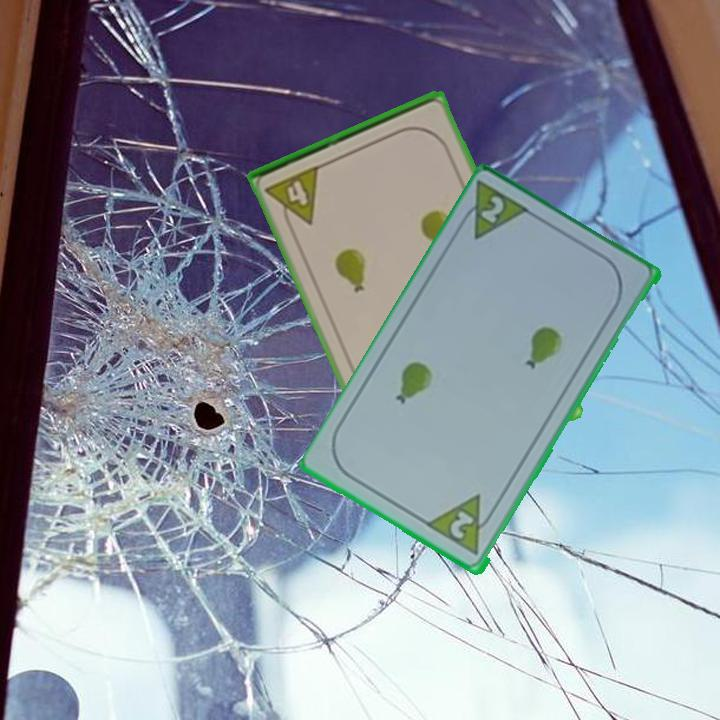2p: (425, 491, 501, 560), (477, 192, 508, 227)
4p: (262, 161, 323, 234)
